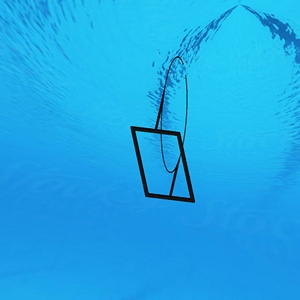circle: (130, 54, 202, 206)
